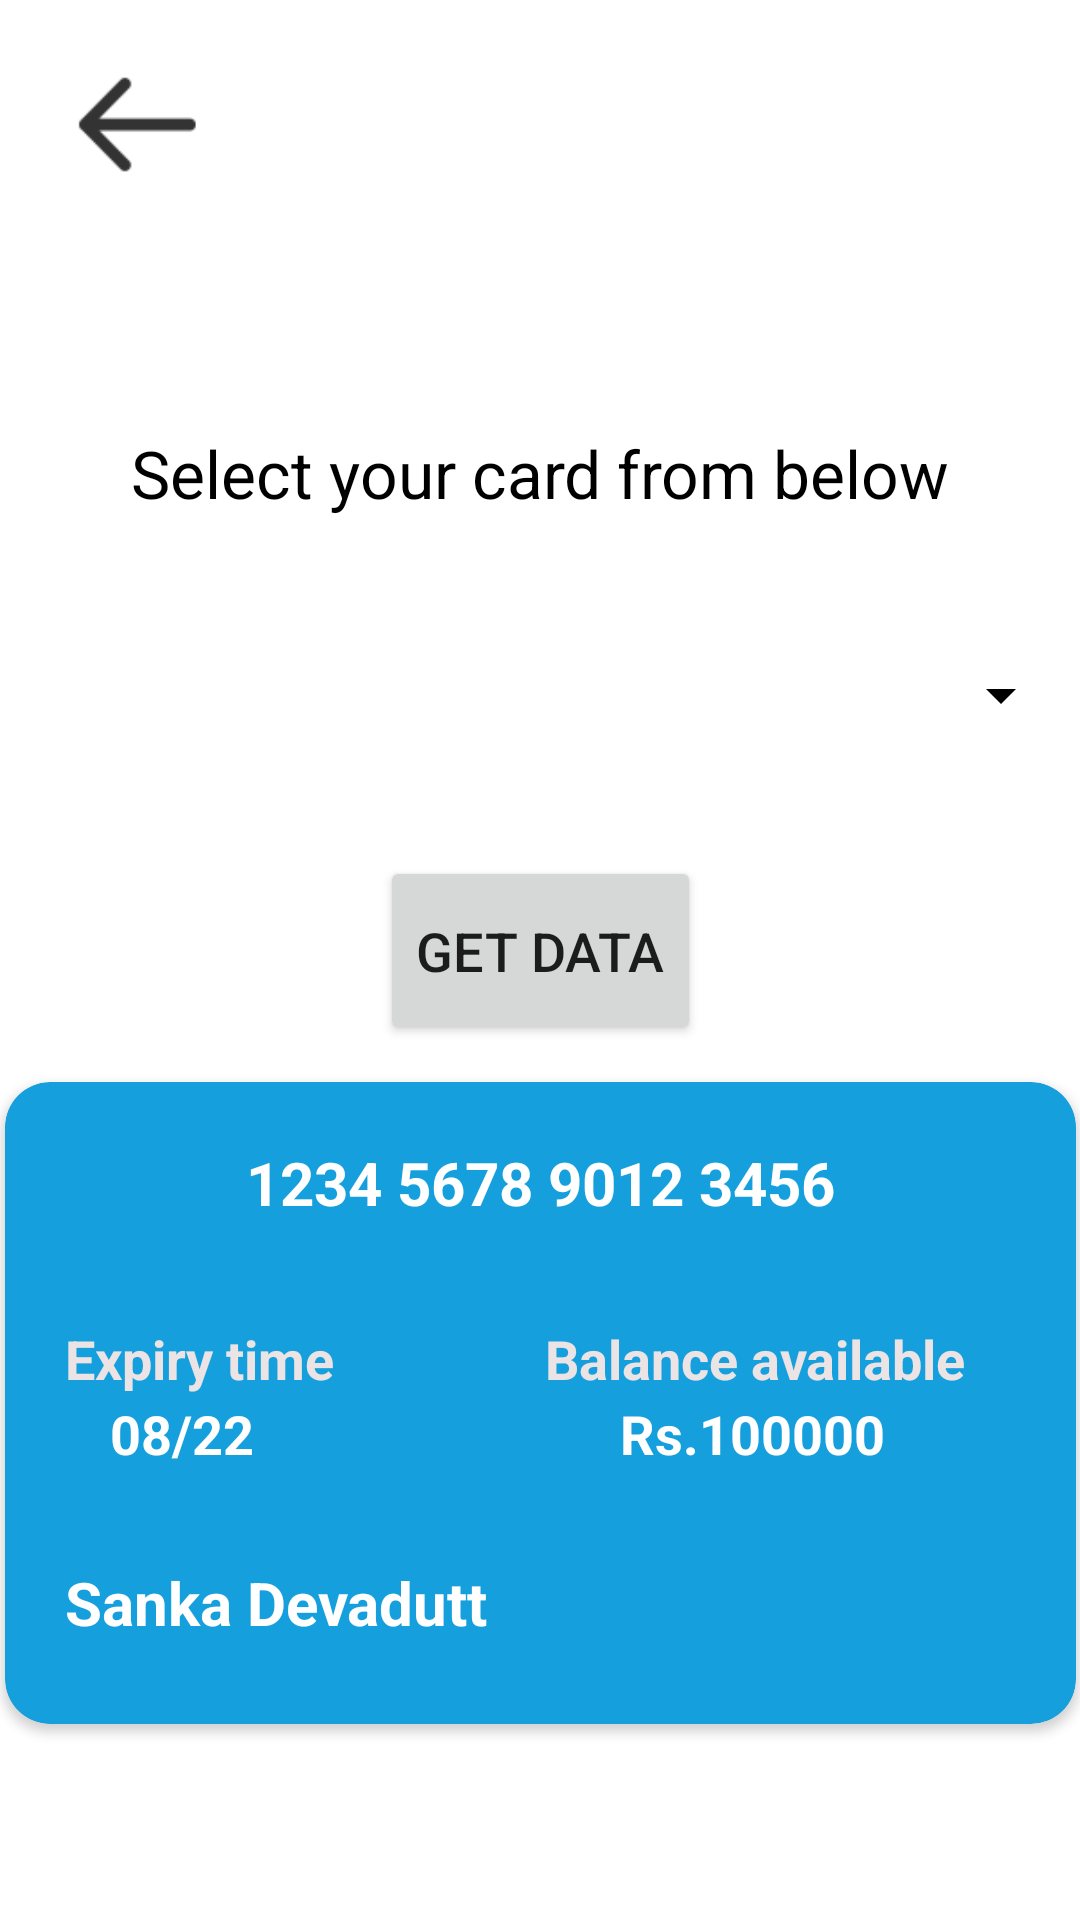

Icon bounding boxes for this 1080w x 1920h phone screenshot, format (x1, y1, x2, y2):
back arrow: (78, 77, 196, 172)
